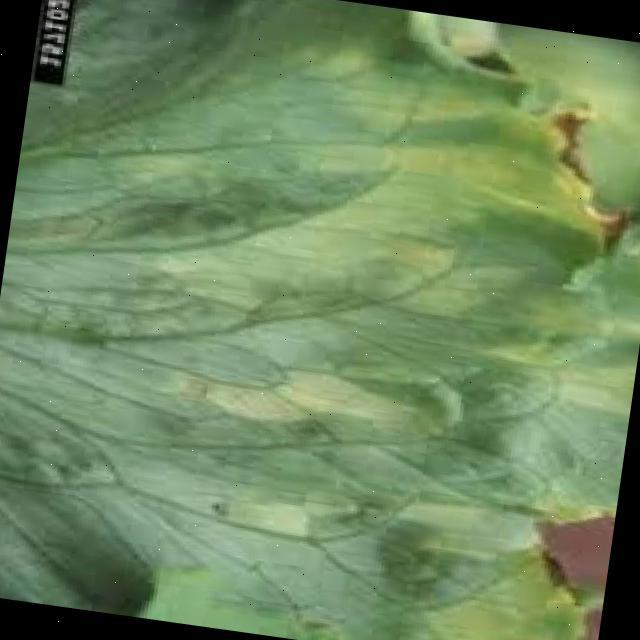Downy_Mildew: (10, 105, 583, 593)
